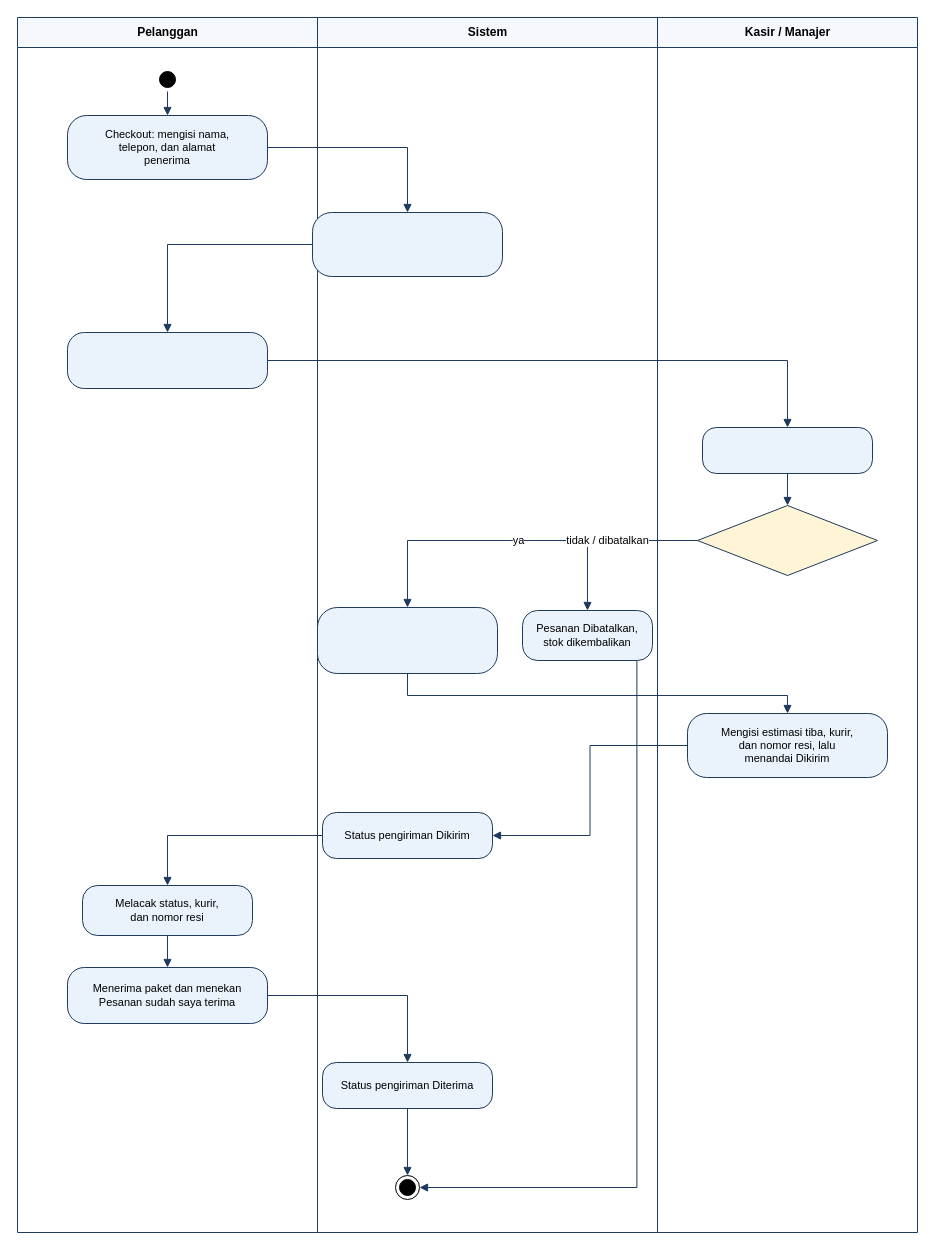
Some shapes in this 935 by 1250 pixel diagram are drawn without their labels. Here are the shapes that lost their labels. From the top down, the centre of each, then its label:
(x=407, y=244): Membuat transaksi (Belum Dibayar), detail penjualan, status pengiriman Menunggu
(x=167, y=360): Membayar (Transfer Bank / QRIS) dan mengunggah bukti
(x=787, y=450): Memeriksa pembayaran
(x=787, y=540): Pembayaran valid?
(x=407, y=640): Status pembayaran Lunas, garansi terbit, status pengiriman Dikemas
